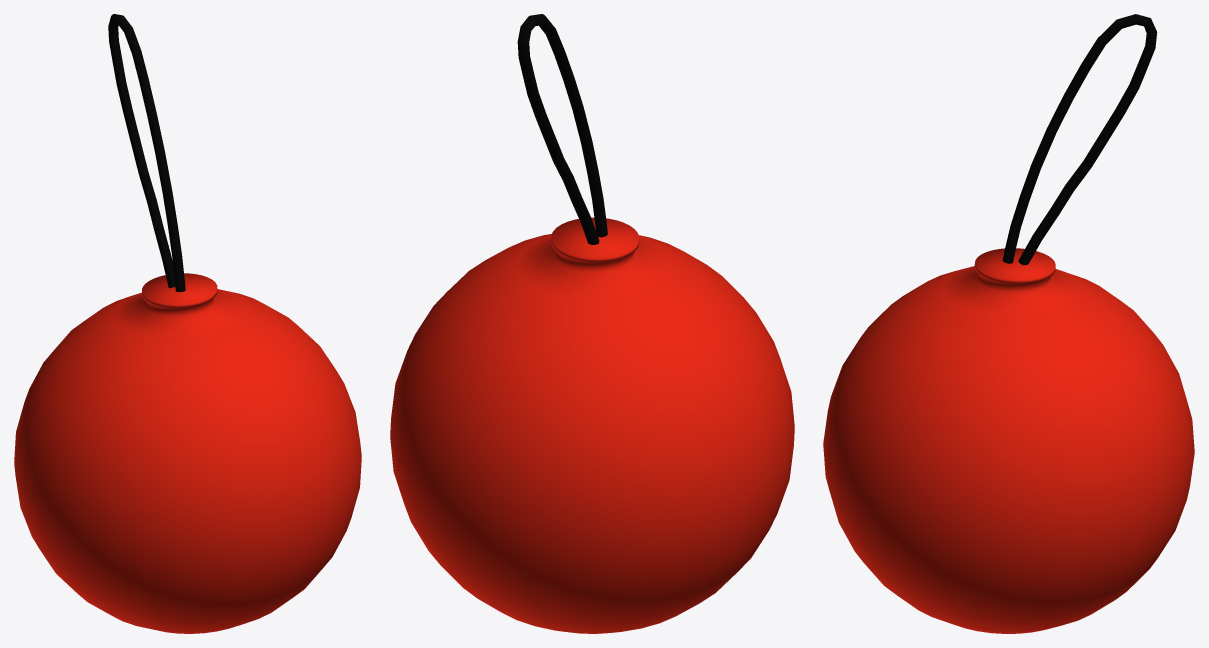
File: bolasNavidad.fbx
3 views of the same model, side by side, from view 1: azimuth 30°, elevation 25°; view 2: azimuth 150°, elevation 25°; view 3: azimuth 270°, elevation 25° (orthographic). The views are drawn at different scales.
Parts seen in each view (by area): view 1: Sphere.008, BezierCurve; view 2: Sphere.008, BezierCurve; view 3: Sphere.008, BezierCurve.
Part boxes in pixels (x1,y1,x2,y2): Sphere.008: (14, 273, 361, 633); BezierCurve: (108, 14, 185, 292); Sphere.008: (390, 217, 794, 633); BezierCurve: (517, 14, 607, 244); Sphere.008: (823, 248, 1194, 633); BezierCurve: (1002, 14, 1157, 265).
Size of the model in its own units: 361 by 642 by 362.
